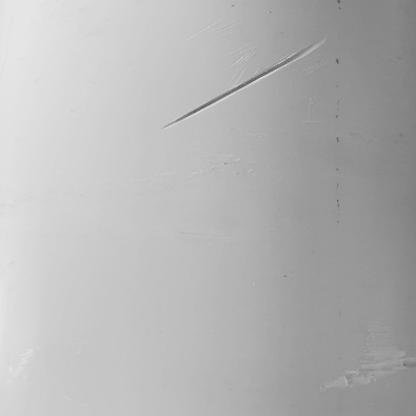sunshang: (161, 39, 324, 132), (324, 354, 416, 389)
